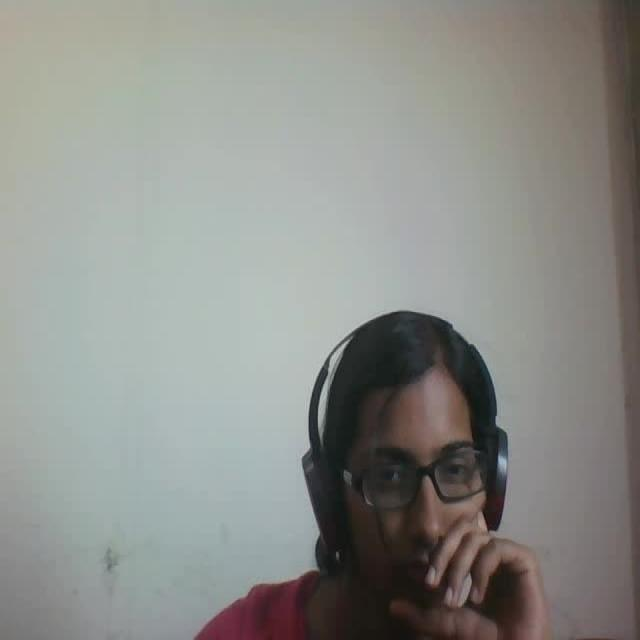Bored: (277, 296, 570, 640)
